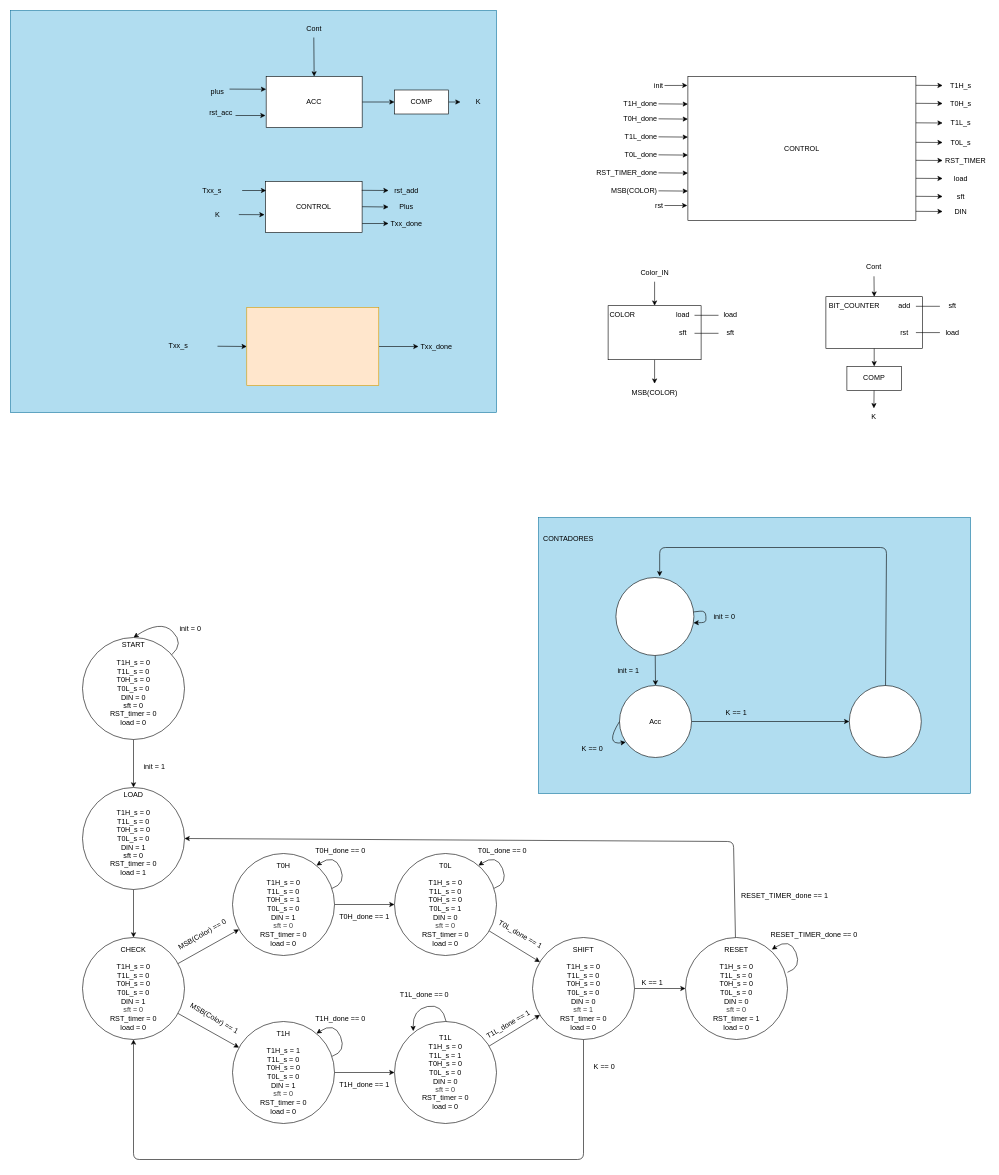
The diagram is 999 pixels wide and 1175 high, and some of its shapes have lost their labels. Here are the shapes that lost their labels. From the top down, the centre of each, then its label:
At pixel 312 346: "Txx".
At pixel 654 616: "START done = 0".
At pixel 885 721: "Done done = 1".
